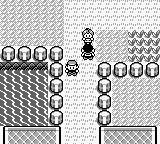captura: (0, 70, 48, 126), (128, 30, 159, 62)
main: (65, 60, 79, 76)
mo: (0, 62, 48, 70)
no-caminable: (0, 46, 65, 128), (97, 62, 159, 125), (99, 126, 156, 143), (4, 127, 60, 143)
npc: (81, 43, 95, 60), (82, 28, 94, 44)
